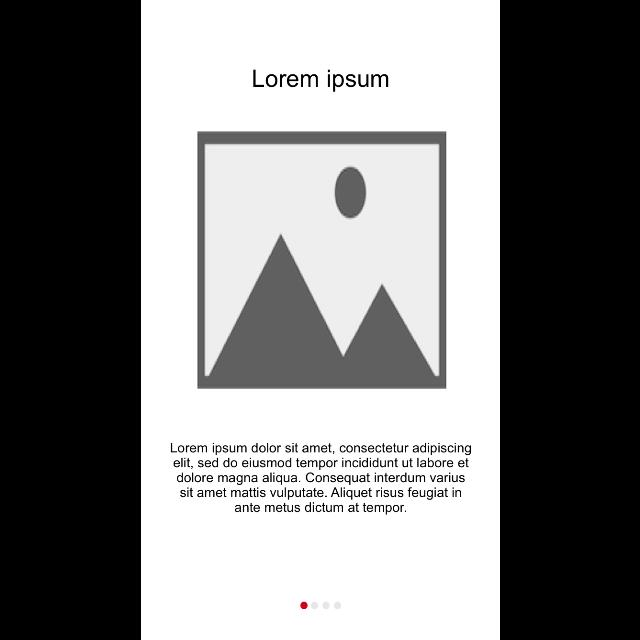image: (198, 132, 447, 388)
pageindicator: (297, 602, 339, 610)
text: (170, 443, 470, 515), (252, 70, 388, 92)
